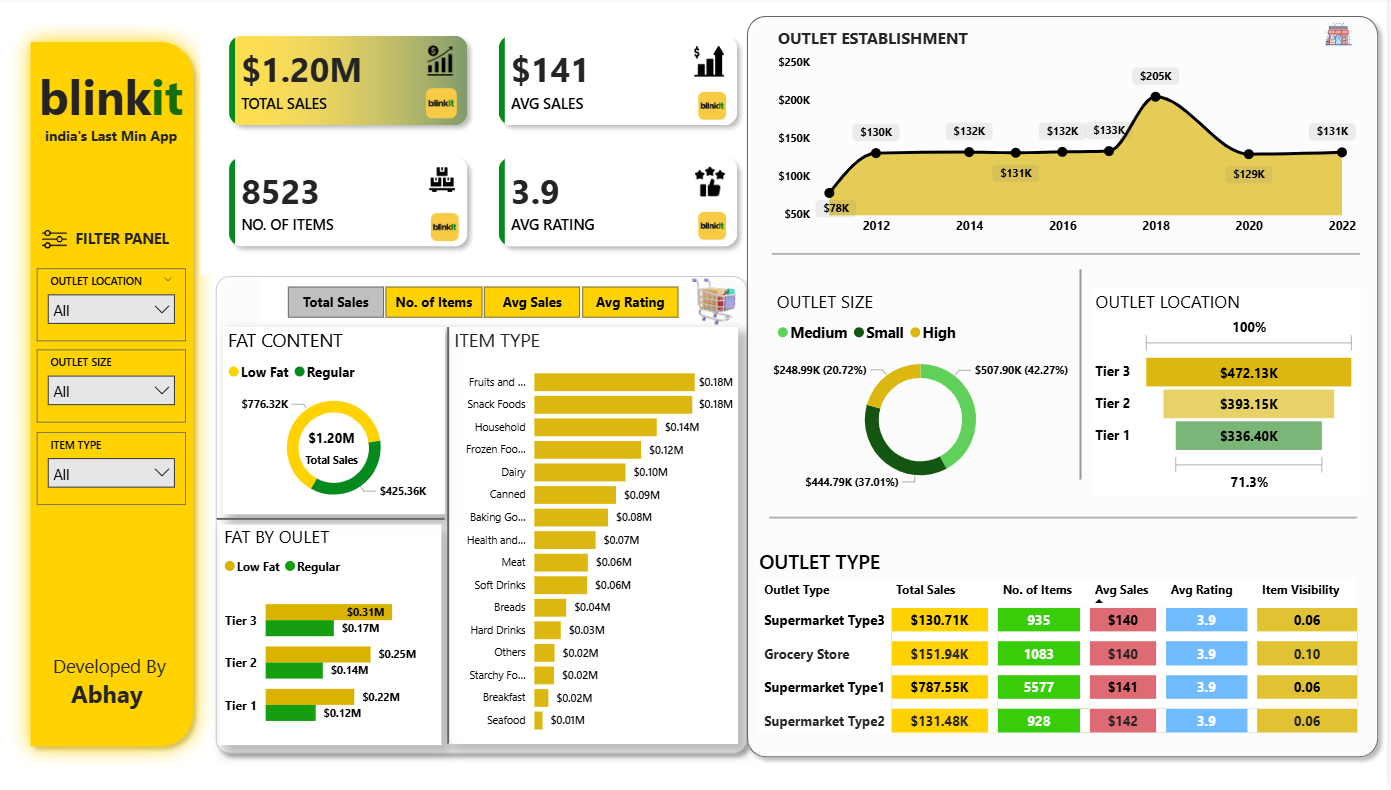

What the dashboard file says about the page in this screenshot:
{"tool":"powerbi","page":{"name":"Page 1","canvas":[1400,800],"ordinal":0},"visuals":[{"type":"shape","box":[12,25.5,204.1,750.4],"z":0},{"type":"textbox","box":[31.5,61.5,165.1,78],"z":1000},{"type":"textbox","box":[31.5,124.6,165.1,28.5],"z":2000},{"type":"cardVisual","fields":{"Data":["BlinkIT Grocery Data.Total Sales","BlinkIT Grocery Data.Average Sales","BlinkIT Grocery Data.No. of Items","BlinkIT Grocery Data.Avg Rating"]},"box":[204.1,10.5,570.3,270.2],"z":3000},{"type":"shape","box":[210.1,271.7,553.8,499.8],"z":4000},{"type":"slicer","fields":{"Values":["METRICES.METRICES"]},"box":[265.7,285.2,444.3,45],"z":5000},{"type":"donutChart","title":"FAT CONTENT","fields":{"Y":["BlinkIT Grocery Data.Total Sales"],"Category":["BlinkIT Grocery Data.Item Fat Content"]},"box":[226.6,333.2,223.6,189.1],"z":6000},{"type":"card","fields":{"Values":["BlinkIT Grocery Data.Total Sales"]},"box":[304.7,427.7,63,52.5],"z":7000},{"type":"clusteredBarChart","title":"FAT BY OULET","fields":{"Y":["BlinkIT Grocery Data.Total Sales"],"Category":["BlinkIT Grocery Data.Outlet Location Type"],"Series":["BlinkIT Grocery Data.Item Fat Content"]},"box":[223.6,531.3,223.6,222.1],"z":8000},{"type":"clusteredBarChart","title":"ITEM TYPE","fields":{"Y":["BlinkIT Grocery Data.Total Sales"],"Category":["BlinkIT Grocery Data.Item Type"]},"box":[454.8,333.2,291.2,420.2],"z":9000},{"type":"shape","box":[745.9,10.5,654.4,765.4],"z":10000},{"type":"shape","box":[220.6,510.3,229.6,31.5],"z":11000},{"type":"shape","box":[441.3,333.2,25.5,420.2],"z":12000},{"type":"lineChart","title":"OUTLET ESTABLISHMENT","fields":{"Category":["BlinkIT Grocery Data.Outlet Establishment Year"],"Y":["BlinkIT Grocery Data.Total Sales"]},"box":[781.9,30,592.8,219.1],"z":13000},{"type":"shape","box":[780.4,243.1,592.8,31.5],"z":14000},{"type":"donutChart","title":"OUTLET SIZE","fields":{"Y":["BlinkIT Grocery Data.Total Sales"],"Category":["BlinkIT Grocery Data.Outlet Size"]},"box":[780.4,295.2,300.2,208.6],"z":15000},{"type":"shape","box":[1083.8,274.7,15.1,211.7],"z":16000},{"type":"shape","box":[777.4,508.8,592.8,31.5],"z":17000},{"type":"funnel","title":"OUTLET LOCATION","fields":{"Y":["BlinkIT Grocery Data.Total Sales"],"Category":["BlinkIT Grocery Data.Outlet Location Type"]},"box":[1101.6,295.2,273.2,208.6],"z":18000},{"type":"pivotTable","title":"OUTLET TYPE","fields":{"Rows":["BlinkIT Grocery Data.Outlet Type"],"Values":["BlinkIT Grocery Data.Total Sales","BlinkIT Grocery Data.No. of Items","BlinkIT Grocery Data.Average Sales","BlinkIT Grocery Data.Avg Rating","Avg(BlinkIT Grocery Data.Item Visibility)"]},"box":[762.4,543.3,627.4,225.1],"z":19000},{"type":"slicer","fields":{"Values":["BlinkIT Grocery Data.Outlet Location Type"]},"box":[39,273.2,150.1,73.5],"z":20000},{"type":"slicer","title":"OUTLET SIZE","fields":{"Values":["BlinkIT Grocery Data.Outlet Size"]},"box":[39,355.7,150.1,73.5],"z":21000},{"type":"slicer","title":"OUTLET SIZE","fields":{"Values":["BlinkIT Grocery Data.Item Type"]},"box":[39,438.3,150.1,73.5],"z":22000},{"type":"image","box":[35.6,221.3,43.2,44.5],"z":23000},{"type":"textbox","box":[72.5,227.7,111.9,38.2],"z":24000},{"type":"textbox","box":[50.9,656.3,127.2,69.9],"z":25000},{"type":"image","box":[434.8,215.5,31.5,32.8],"z":26000},{"type":"image","box":[704.5,93.3,31.5,32.8],"z":27000},{"type":"image","box":[704.5,214.2,31.5,32.8],"z":28000},{"type":"image","box":[429.7,89.5,34,35.3],"z":29000},{"type":"image","box":[1330.8,18.9,41.6,37.8],"z":30000},{"type":"image","box":[690.6,282.3,64.3,49.1],"z":31000}]}

Visuals, with their boxes in screenshot pixels (x1, y1, x2, y2), scaled from the page's 1400x800 canvas onto the 1391x790 screenshot:
shape: {"left": 12, "top": 25, "right": 215, "bottom": 766}
textbox: {"left": 31, "top": 61, "right": 195, "bottom": 138}
textbox: {"left": 31, "top": 123, "right": 195, "bottom": 151}
cardVisual - BlinkIT Grocery Data.Total Sales x BlinkIT Grocery Data.Average Sales: {"left": 203, "top": 10, "right": 769, "bottom": 277}
shape: {"left": 209, "top": 268, "right": 759, "bottom": 762}
slicer - METRICES.METRICES: {"left": 264, "top": 282, "right": 705, "bottom": 326}
"FAT CONTENT" donutChart: {"left": 225, "top": 329, "right": 447, "bottom": 516}
card - BlinkIT Grocery Data.Total Sales: {"left": 303, "top": 422, "right": 365, "bottom": 474}
"FAT BY OULET" clusteredBarChart: {"left": 222, "top": 525, "right": 444, "bottom": 744}
"ITEM TYPE" clusteredBarChart: {"left": 452, "top": 329, "right": 741, "bottom": 744}
shape: {"left": 741, "top": 10, "right": 1390, "bottom": 766}
shape: {"left": 219, "top": 504, "right": 447, "bottom": 535}
shape: {"left": 438, "top": 329, "right": 464, "bottom": 744}
"OUTLET ESTABLISHMENT" lineChart: {"left": 777, "top": 30, "right": 1366, "bottom": 246}
shape: {"left": 775, "top": 240, "right": 1364, "bottom": 271}
"OUTLET SIZE" donutChart: {"left": 775, "top": 292, "right": 1074, "bottom": 498}
shape: {"left": 1077, "top": 271, "right": 1092, "bottom": 480}
shape: {"left": 772, "top": 502, "right": 1361, "bottom": 534}
"OUTLET LOCATION" funnel: {"left": 1095, "top": 292, "right": 1366, "bottom": 498}
"OUTLET TYPE" pivotTable: {"left": 757, "top": 537, "right": 1381, "bottom": 759}
slicer - BlinkIT Grocery Data.Outlet Location Type: {"left": 39, "top": 270, "right": 188, "bottom": 342}
"OUTLET SIZE" slicer: {"left": 39, "top": 351, "right": 188, "bottom": 424}
"OUTLET SIZE" slicer: {"left": 39, "top": 433, "right": 188, "bottom": 505}
image: {"left": 35, "top": 219, "right": 78, "bottom": 262}
textbox: {"left": 72, "top": 225, "right": 183, "bottom": 263}
textbox: {"left": 51, "top": 648, "right": 177, "bottom": 717}
image: {"left": 432, "top": 213, "right": 463, "bottom": 245}
image: {"left": 700, "top": 92, "right": 731, "bottom": 125}
image: {"left": 700, "top": 212, "right": 731, "bottom": 244}
image: {"left": 427, "top": 88, "right": 461, "bottom": 123}
image: {"left": 1322, "top": 19, "right": 1364, "bottom": 56}
image: {"left": 686, "top": 279, "right": 750, "bottom": 327}
